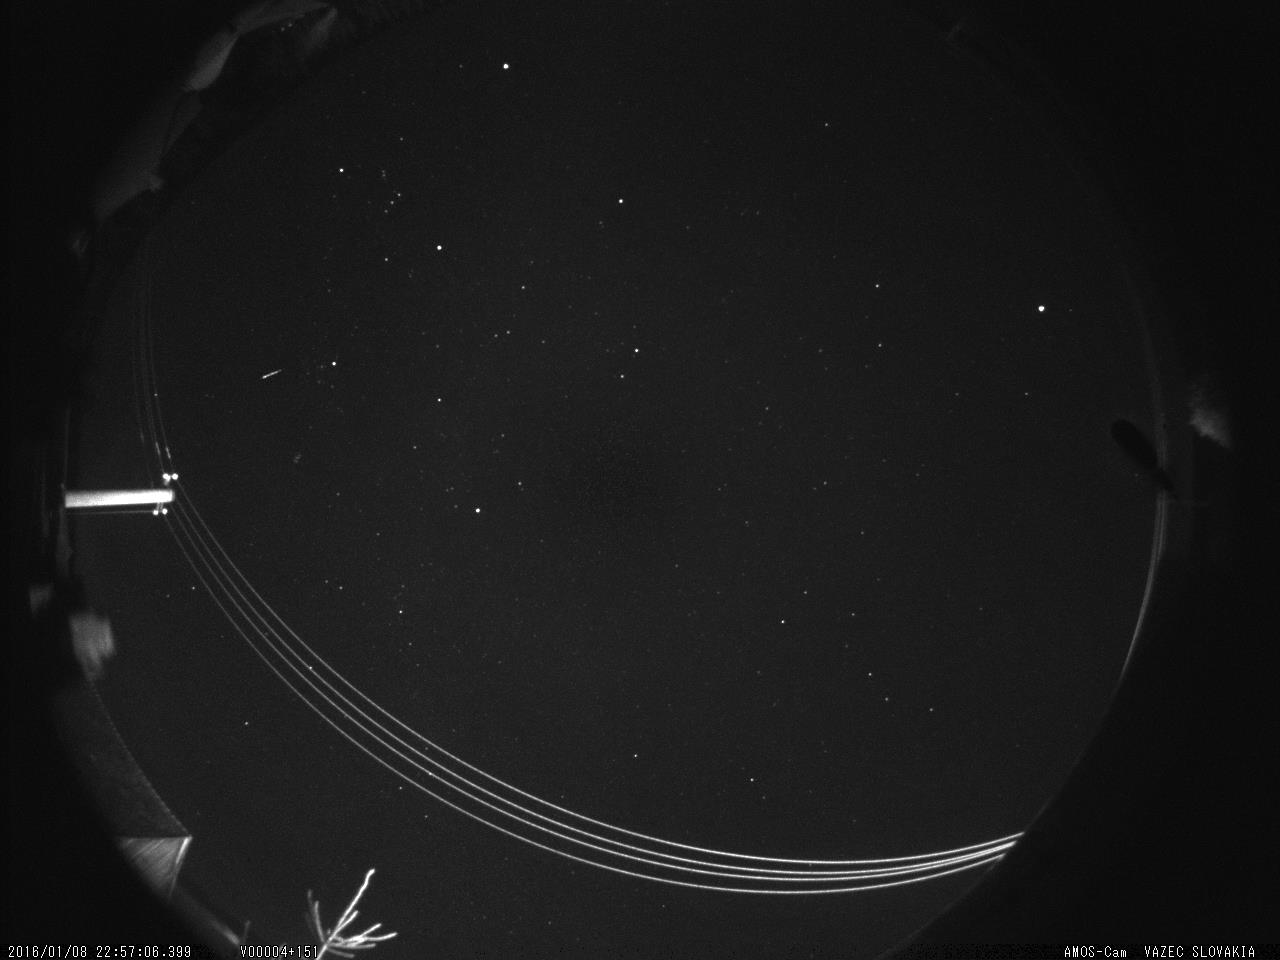meteor: (258, 362, 289, 386)
